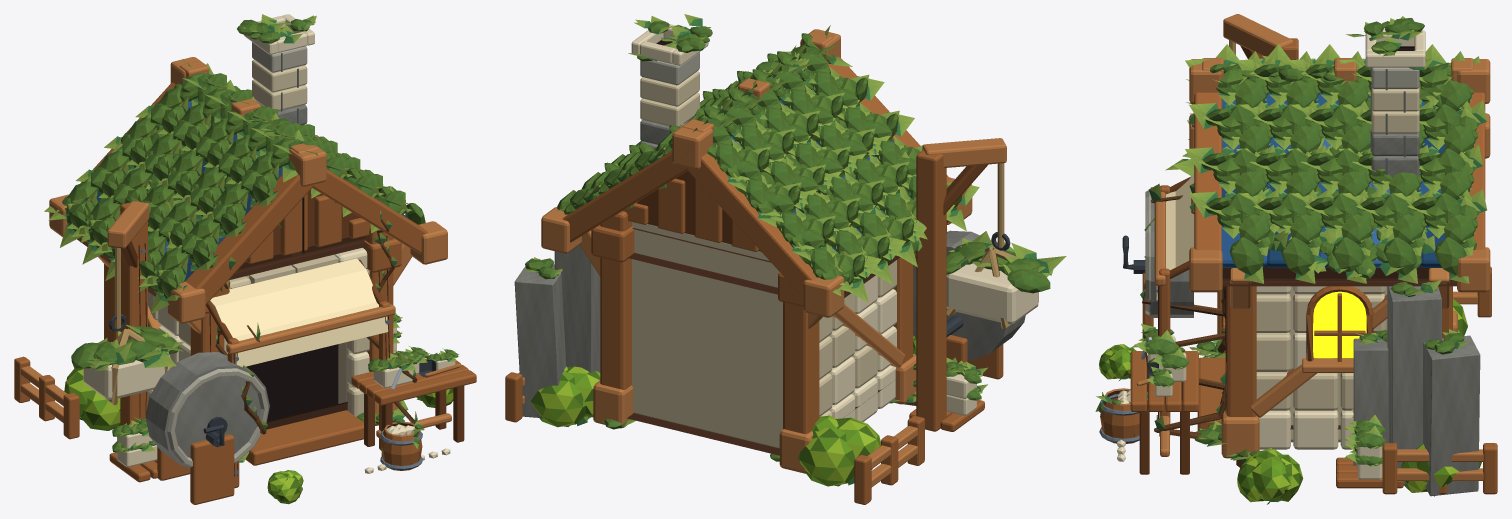
The model's file is stone_cutter.glb.
The picture shows the model from 3 angles, left to right: view 1: azimuth 30°, elevation 25°; view 2: azimuth 150°, elevation 25°; view 3: azimuth 270°, elevation 25°; orthographic projection. The views are drawn at different scales.
Parts seen in each view (by area): view 1: Runtime surface 005, Runtime surface 017, Runtime surface 001, Runtime surface 013, Runtime surface 016, Runtime surface 010, Runtime surface 002, Runtime surface 011, Runtime surface 007, Runtime surface 004, Runtime surface 006, Runtime surface 009 (+11 smaller); view 2: Runtime surface 005, Runtime surface 011, Runtime surface 017, Runtime surface 001, Runtime surface 010, Runtime surface 002, Runtime surface 016, Runtime surface 022, Runtime surface 029, Runtime surface 006, Runtime surface 021, Runtime surface 004 (+5 smaller); view 3: Runtime surface 017, Runtime surface 010, Runtime surface 005, Runtime surface 001, Runtime surface 016, Runtime surface 011, Runtime surface 002, Runtime surface 029, Runtime surface 028, Runtime surface 006, Runtime surface 025, Runtime surface 015 (+13 smaller).
Boxes of the visible parts, <box> form: Runtime surface 005: <box>14,82,476,504</box>; Runtime surface 017: <box>62,73,458,452</box>; Runtime surface 001: <box>20,57,460,438</box>; Runtime surface 013: <box>210,258,388,366</box>; Runtime surface 016: <box>44,59,459,496</box>; Runtime surface 010: <box>145,100,307,468</box>; Runtime surface 002: <box>83,14,455,473</box>; Runtime surface 011: <box>148,60,369,416</box>; Runtime surface 007: <box>246,344,338,421</box>; Runtime surface 004: <box>121,190,464,455</box>; Runtime surface 006: <box>77,193,418,476</box>; Runtime surface 009: <box>167,42,307,466</box>; Runtime surface 005: <box>505,56,1003,504</box>; Runtime surface 011: <box>632,71,896,448</box>; Runtime surface 017: <box>557,33,1050,400</box>; Runtime surface 001: <box>518,29,1006,487</box>; Runtime surface 010: <box>514,117,1025,418</box>; Runtime surface 002: <box>631,24,1038,421</box>; Runtime surface 016: <box>555,25,1066,485</box>; Runtime surface 022: <box>530,335,916,486</box>; Runtime surface 029: <box>525,21,918,461</box>; Runtime surface 006: <box>627,220,948,455</box>; Runtime surface 021: <box>531,347,916,486</box>; Runtime surface 004: <box>636,164,988,251</box>; Runtime surface 017: <box>1099,62,1478,465</box>; Runtime surface 010: <box>1150,131,1480,496</box>; Runtime surface 005: <box>1100,38,1497,494</box>; Runtime surface 001: <box>1105,14,1490,480</box>; Runtime surface 016: <box>1095,44,1487,503</box>; Runtime surface 011: <box>1256,87,1419,442</box>; Runtime surface 002: <box>1117,30,1425,479</box>; Runtime surface 029: <box>1194,18,1464,457</box>; Runtime surface 028: <box>1140,16,1468,460</box>; Runtime surface 006: <box>1101,266,1456,436</box>; Runtime surface 025: <box>1313,291,1366,358</box>; Runtime surface 015: <box>1099,59,1486,504</box>.
Bounding box in the file's own units: 4.83 × 4.2 × 3.68.
29 materials, 8 textured.
